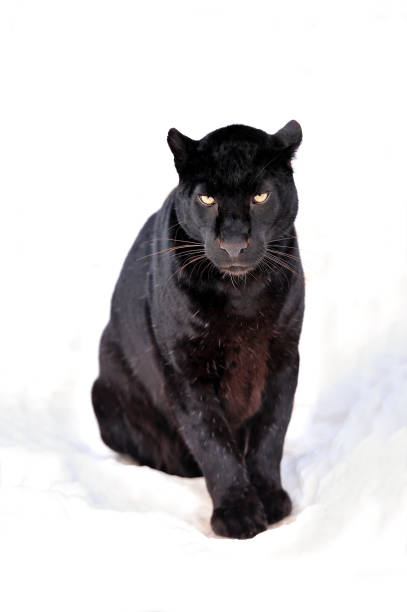panther: (143, 109, 330, 302)
